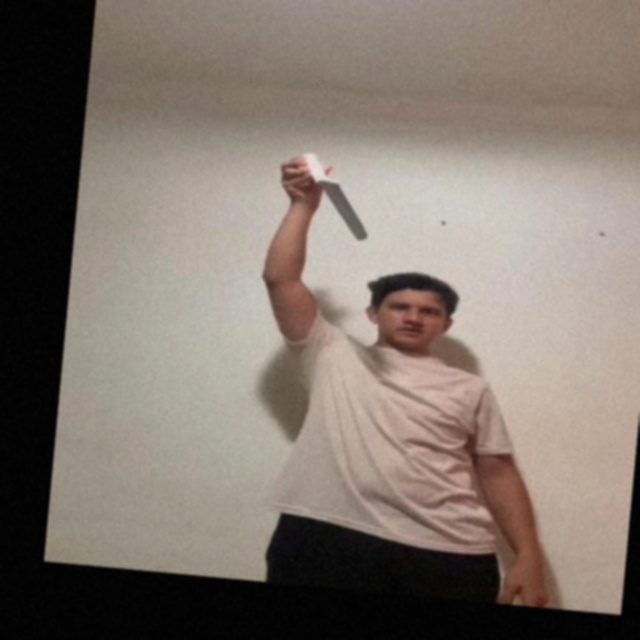Sharp-Object: (321, 180, 372, 240)
